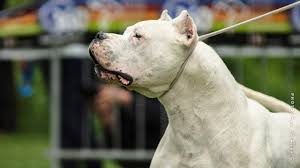dog: (78, 6, 288, 166)
